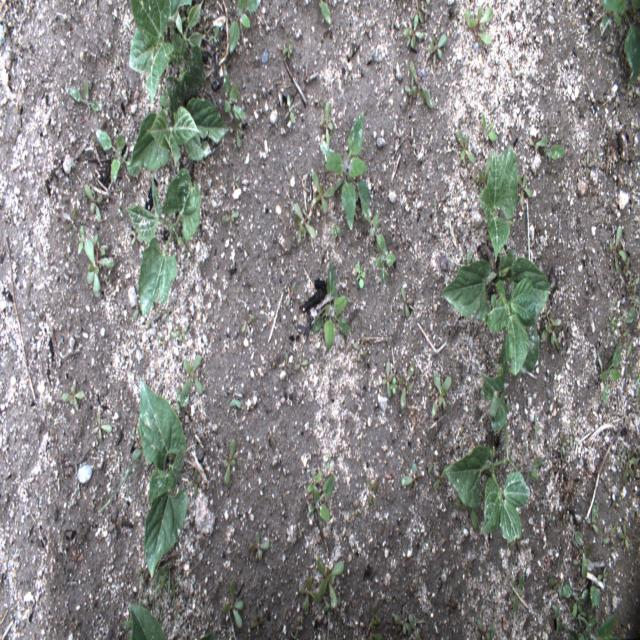crop: (443, 372, 530, 542), (440, 246, 551, 375), (129, 46, 229, 174), (125, 166, 203, 316), (137, 377, 188, 579), (128, 0, 206, 108), (478, 144, 518, 261), (128, 604, 168, 640), (201, 630, 216, 640)
weed: (319, 111, 371, 231), (98, 426, 152, 513), (311, 259, 352, 353), (600, 0, 639, 88), (562, 582, 602, 640), (85, 232, 115, 296), (174, 352, 204, 412), (95, 130, 130, 181), (227, 0, 258, 53), (596, 344, 622, 406), (307, 473, 334, 531), (317, 556, 345, 611), (363, 202, 387, 256), (312, 169, 340, 215), (464, 3, 494, 45), (408, 59, 433, 109), (221, 577, 245, 629), (221, 73, 246, 121), (68, 78, 100, 113), (535, 128, 566, 162), (572, 528, 592, 580), (294, 203, 317, 247), (609, 224, 628, 276), (402, 11, 426, 52), (606, 295, 626, 344), (541, 305, 561, 351), (432, 371, 451, 418), (393, 610, 422, 640), (374, 251, 397, 287), (84, 182, 103, 225), (400, 361, 417, 409), (455, 128, 477, 162), (299, 576, 319, 613), (247, 530, 270, 562), (222, 437, 237, 486), (428, 34, 448, 68), (92, 411, 113, 443), (61, 380, 85, 408), (399, 462, 419, 495), (382, 359, 398, 400), (320, 100, 334, 144), (154, 561, 170, 599), (510, 573, 524, 615), (594, 613, 616, 639), (622, 450, 640, 480), (404, 72, 419, 108), (586, 499, 600, 537), (580, 148, 596, 181), (481, 113, 499, 142), (221, 202, 240, 228), (427, 463, 446, 489), (369, 604, 383, 639), (626, 288, 640, 323), (547, 575, 564, 601), (364, 477, 379, 506), (62, 207, 78, 234), (188, 468, 202, 498), (476, 618, 496, 639), (400, 287, 413, 319), (552, 602, 564, 634), (307, 469, 323, 493), (527, 457, 542, 482), (232, 118, 244, 149), (294, 351, 308, 375), (355, 261, 366, 291), (602, 523, 617, 545), (596, 565, 610, 588), (618, 522, 629, 550), (286, 92, 295, 124), (242, 314, 254, 338), (283, 36, 294, 62), (278, 352, 291, 374), (286, 280, 296, 308), (320, 0, 331, 25), (624, 344, 632, 378), (172, 324, 187, 342), (208, 23, 220, 44), (78, 223, 85, 257), (413, 0, 423, 23), (329, 223, 342, 240), (619, 328, 630, 348), (533, 414, 541, 440), (155, 334, 167, 350), (422, 2, 432, 21), (560, 433, 568, 456), (228, 398, 242, 410), (627, 276, 639, 290), (136, 565, 144, 585), (230, 172, 240, 188), (623, 256, 631, 276), (171, 582, 177, 608), (569, 418, 574, 448), (158, 602, 165, 622), (326, 453, 331, 471), (112, 56, 118, 71), (124, 618, 133, 628), (118, 208, 124, 220), (548, 512, 552, 528)
